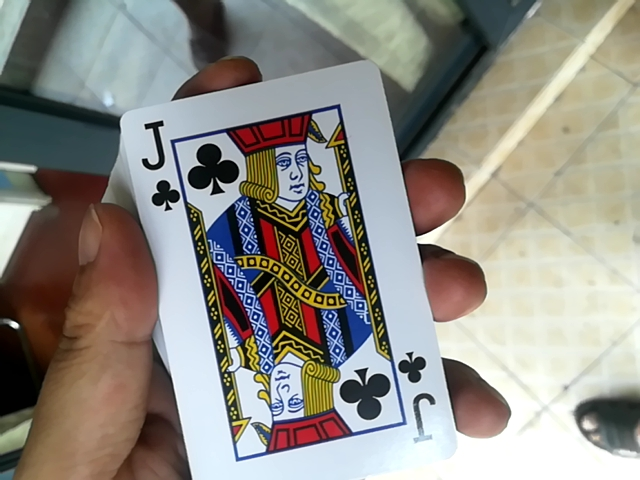mh j: (101, 36, 469, 480)
